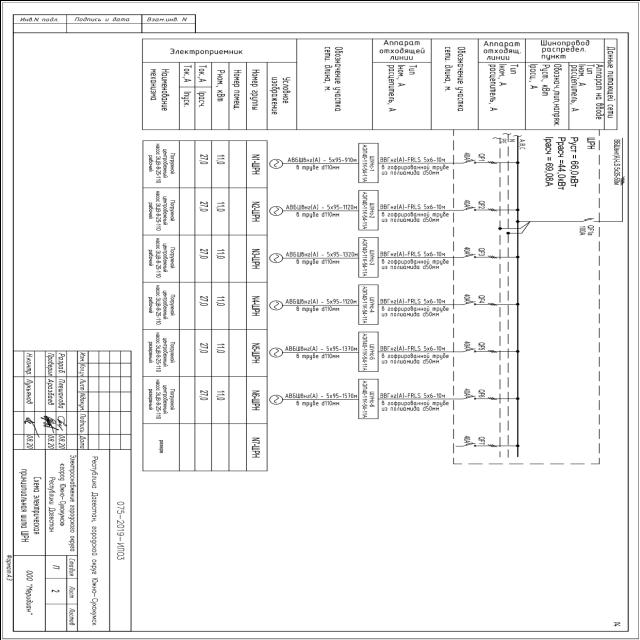-: (584, 133, 596, 150), (576, 223, 586, 236), (462, 292, 472, 302), (460, 386, 470, 396), (460, 150, 470, 160), (460, 434, 470, 443), (460, 339, 470, 348), (461, 246, 471, 254), (460, 198, 470, 206)
QF: (460, 204, 496, 211), (462, 299, 497, 306), (462, 158, 497, 165), (461, 346, 496, 353), (462, 393, 496, 400), (462, 440, 496, 447), (462, 252, 498, 258), (580, 216, 596, 222)
